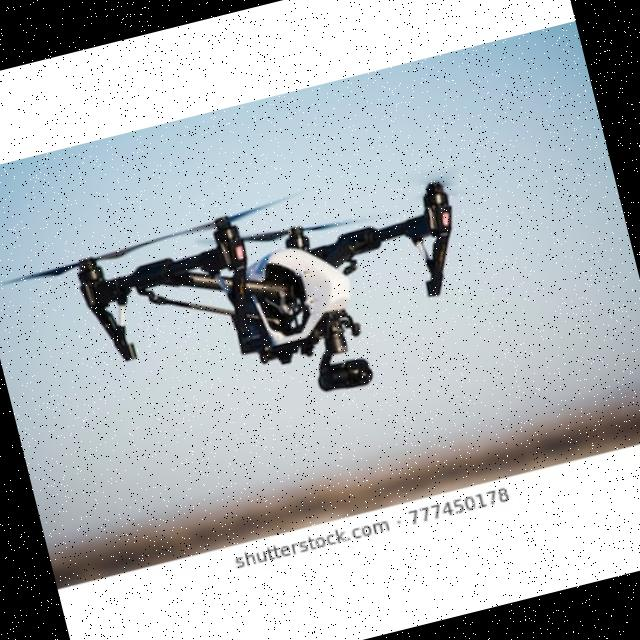Drones: (68, 167, 502, 414)
